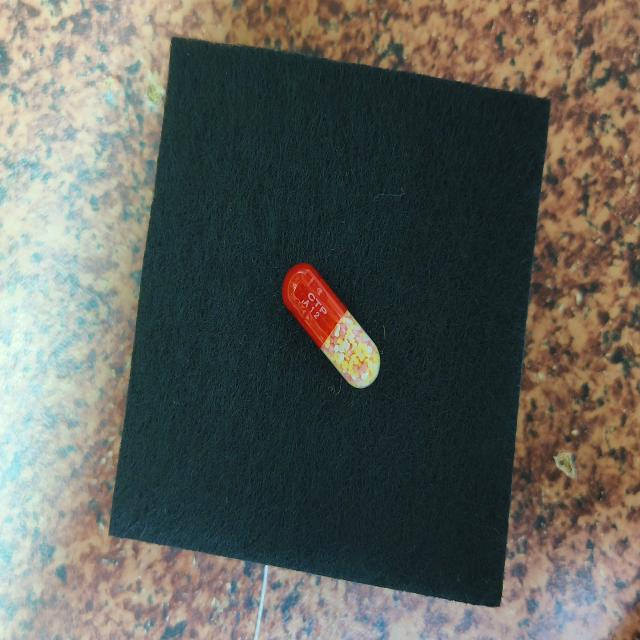Intact Capsule: (282, 263, 380, 388)
